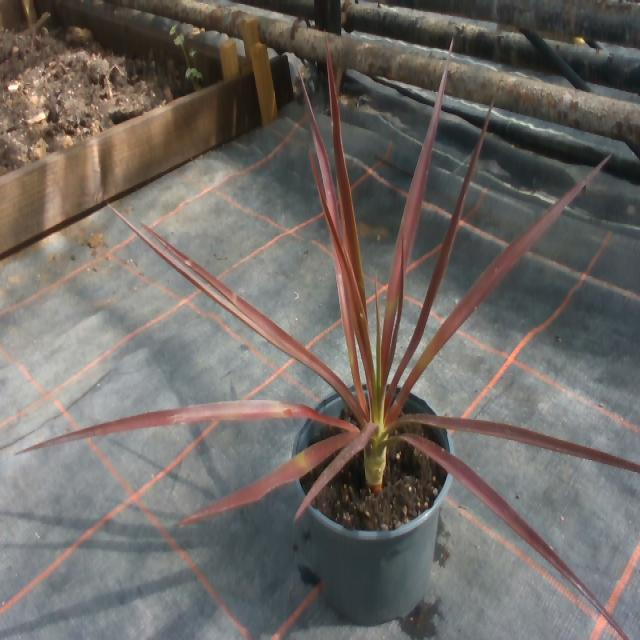Yucca-aloifolia: (387, 156, 610, 416), (114, 209, 352, 401), (400, 435, 604, 612), (156, 236, 351, 399), (391, 107, 490, 389), (383, 41, 452, 347), (19, 401, 356, 452), (180, 435, 354, 525), (396, 413, 639, 472), (295, 423, 376, 519), (329, 79, 363, 303), (331, 223, 372, 385), (330, 233, 365, 409), (303, 83, 339, 231), (383, 347, 394, 376)
